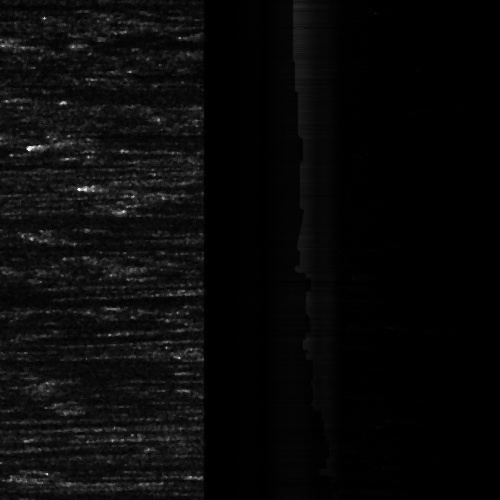shadow: (0, 0, 130, 7)
